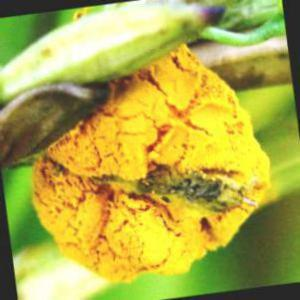False Smut: (38, 77, 151, 231), (158, 65, 248, 230), (71, 240, 209, 275)
